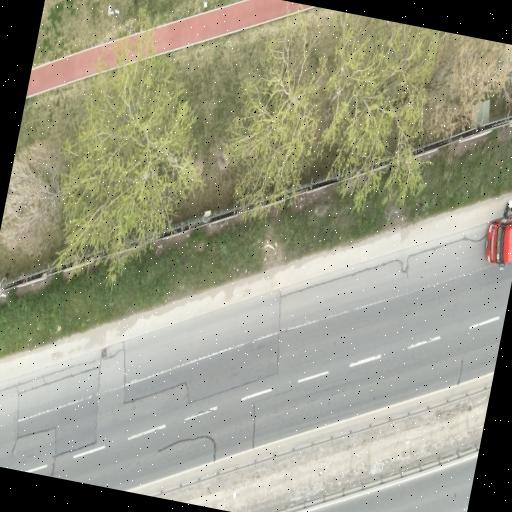person: (507, 199, 511, 211)
truck: (485, 216, 511, 268)
